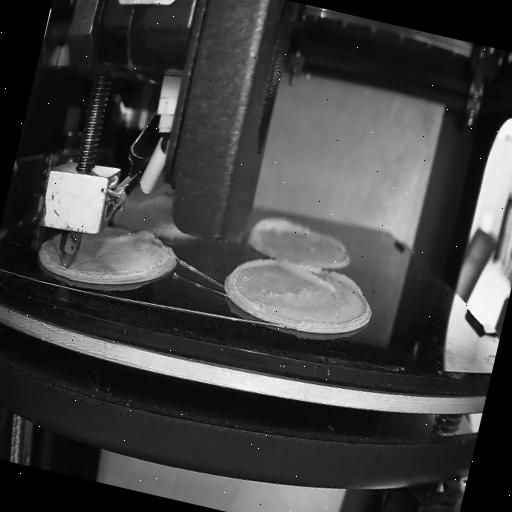over_extrusion: (274, 258, 368, 303), (224, 246, 276, 308), (248, 210, 313, 254), (96, 219, 164, 258)
